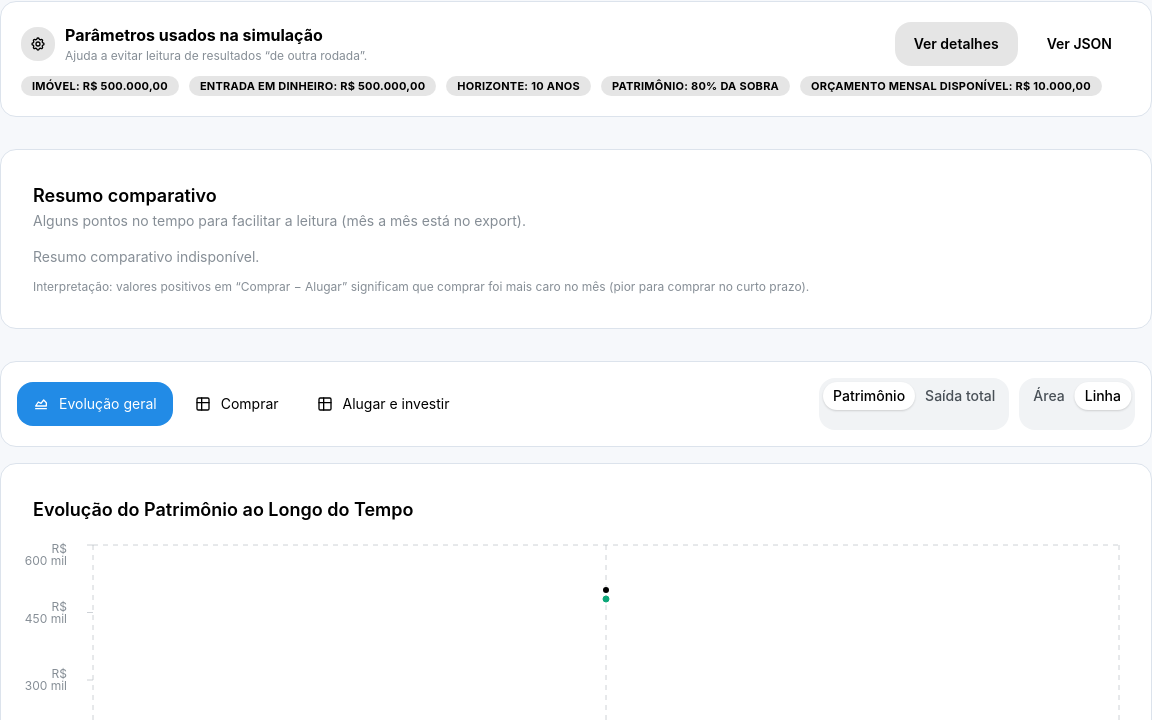
Test: EnhancedComparisonResults purchase semantics › does not present financing or amortization policies for an outright purchase
(page scrolled)
Click the tab "Comprar": (237, 404) x1=179 y1=382 x2=295 y2=426
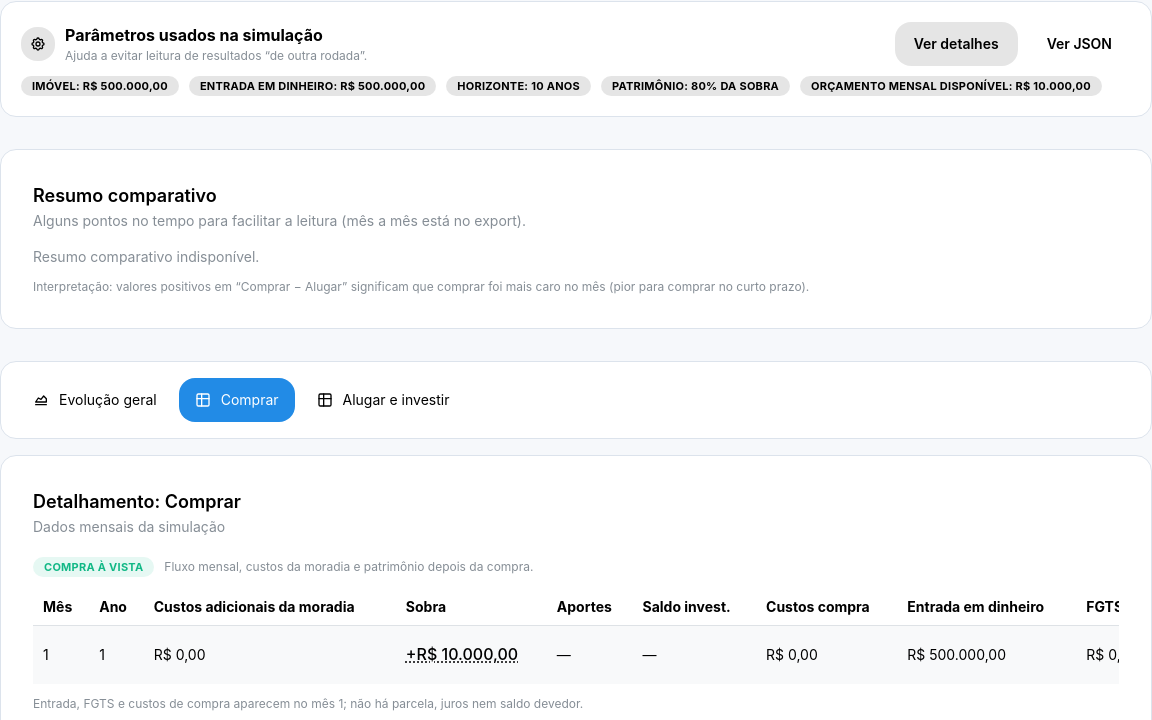
Result: the table named "Fluxo mensal da compra à vista" is shown at x1=33 y1=589 x2=1119 y2=684
Click the tab "Alugar e investir": (383, 400) x1=300 y1=378 x2=465 y2=422
(page scrolled)
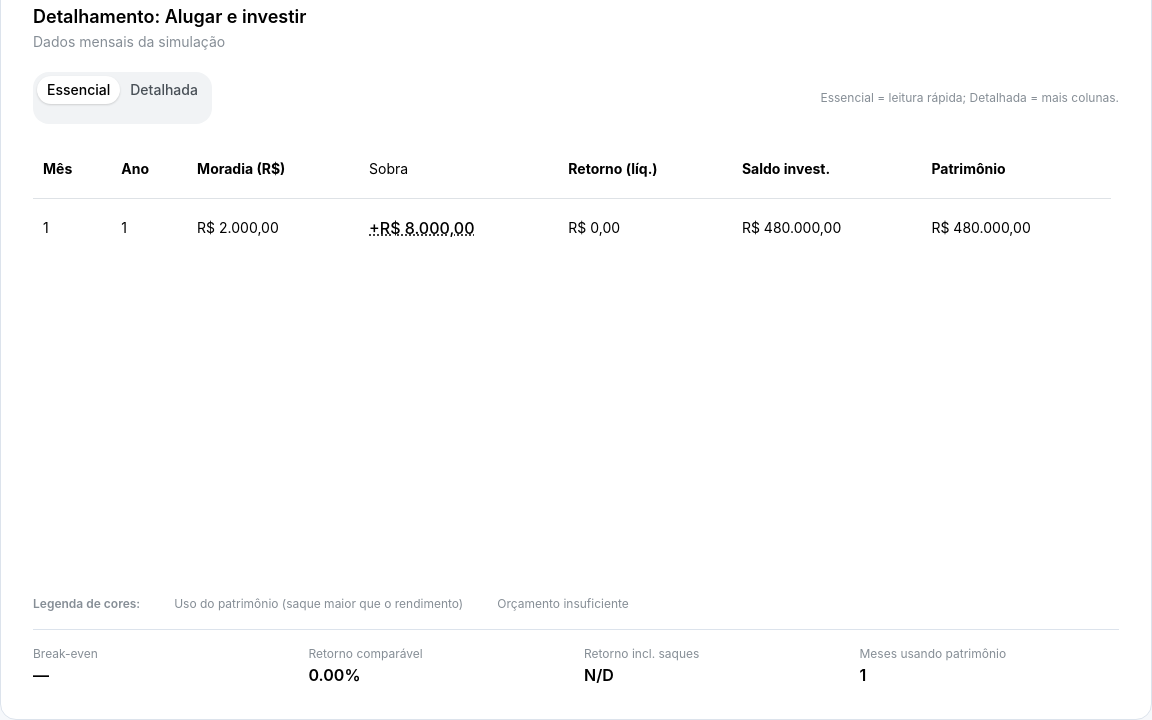
Result: the text "Meses usando patrimônio" is shown at x1=860 y1=646 x2=1006 y2=661
Result: the text "Uso do patrimônio (saque maior que o rendimento)" is shown at x1=174 y1=596 x2=463 y2=613
